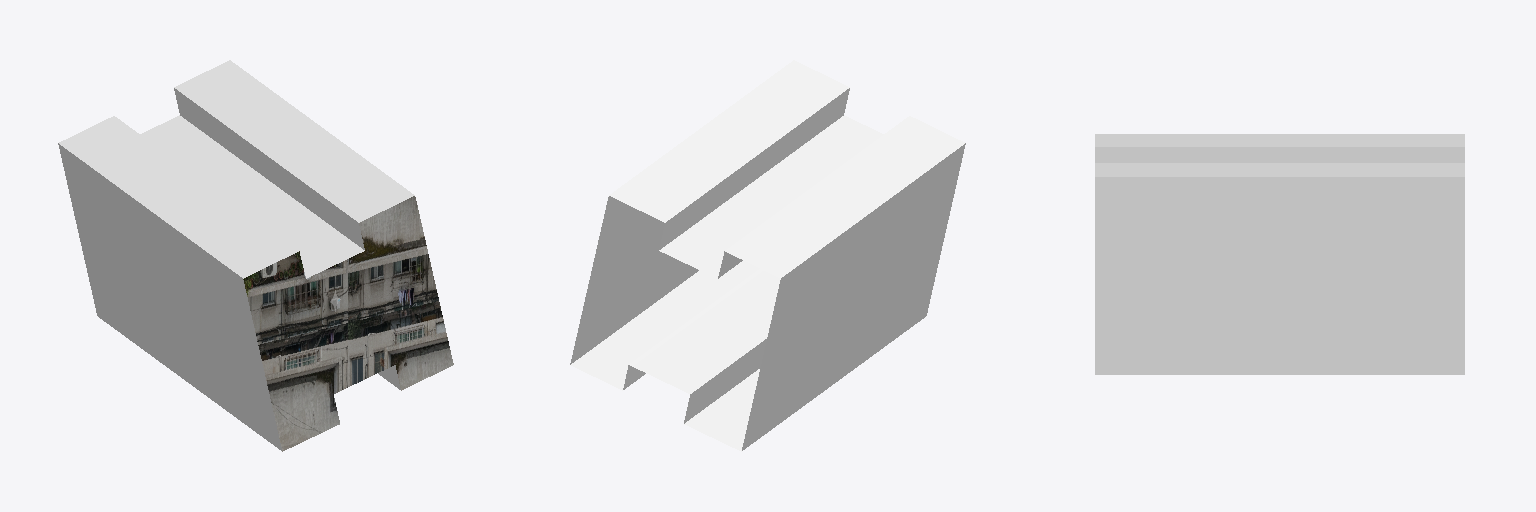
3 views of the same model, side by side, from view 1: azimuth 30°, elevation 25°; view 2: azimuth 150°, elevation 25°; view 3: azimuth 270°, elevation 25° (orthographic).
Visible parts, largest first — view 1: Building; view 2: Building; view 3: Building.
Part boxes in pixels (bbox=[...]): Building: bbox=[58, 60, 453, 451]; Building: bbox=[570, 60, 965, 451]; Building: bbox=[1095, 134, 1464, 374].
Size of the model in its own units: 23.65 by 24.01 by 36.
2 materials, 1 textured.